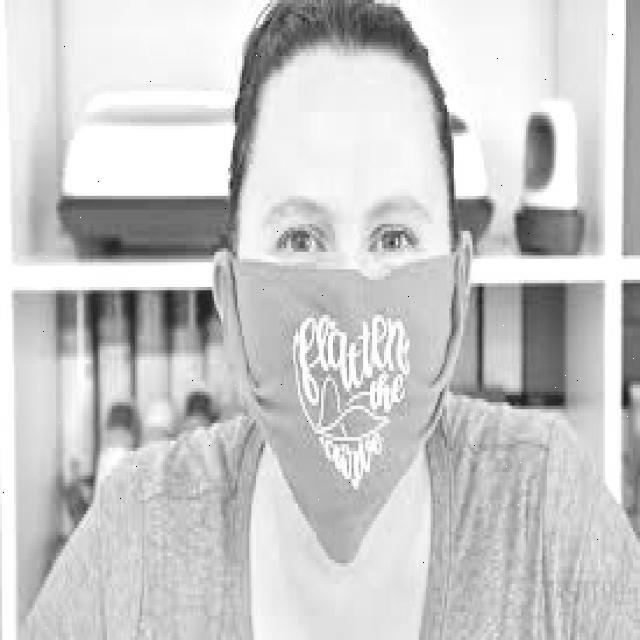fake: (184, 230, 484, 580)
real: (236, 49, 450, 516)
